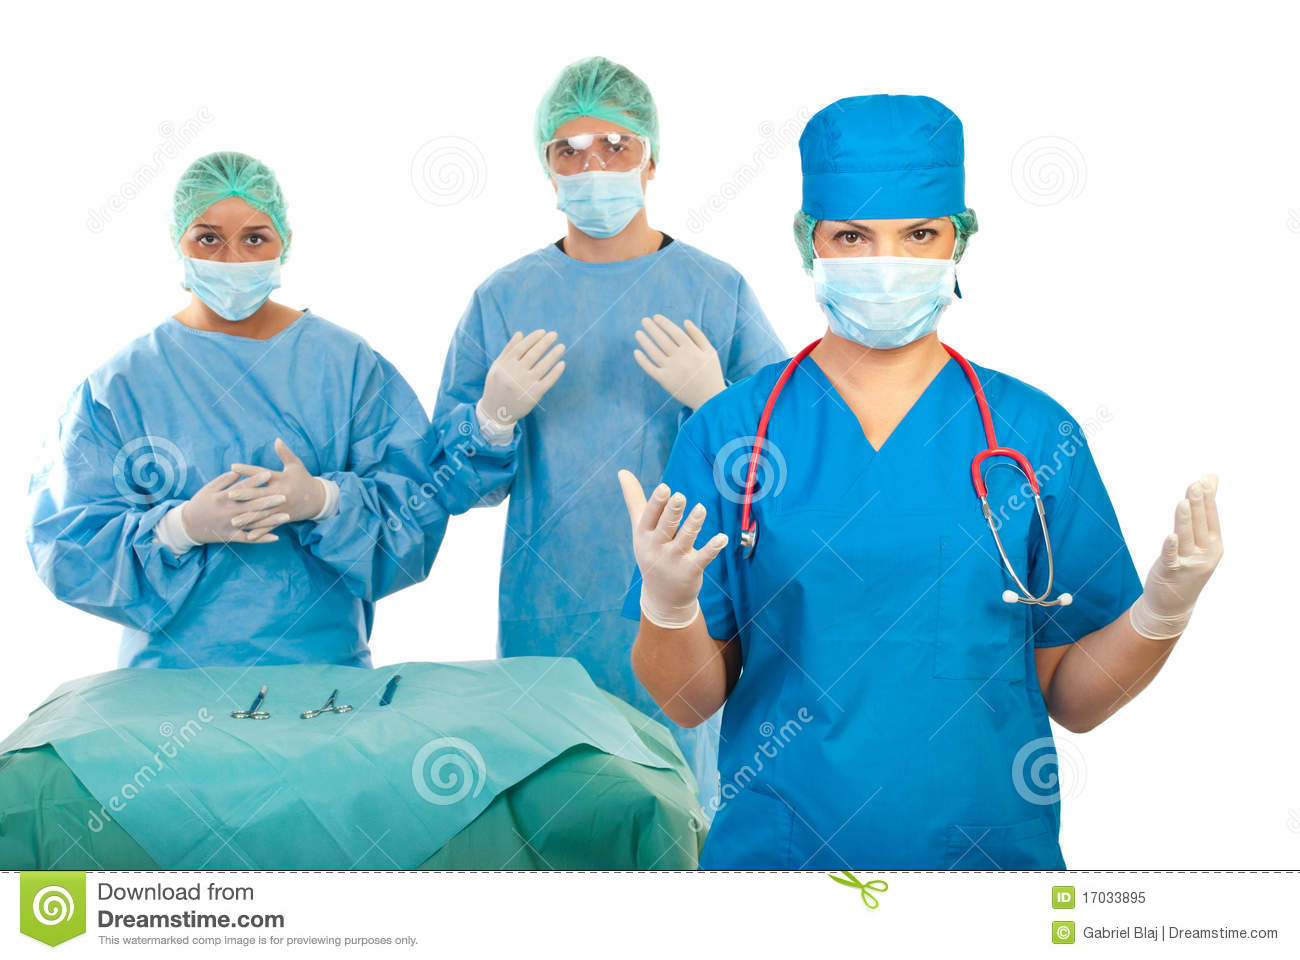mask: (813, 261, 959, 350), (554, 170, 650, 240), (182, 259, 280, 322)
